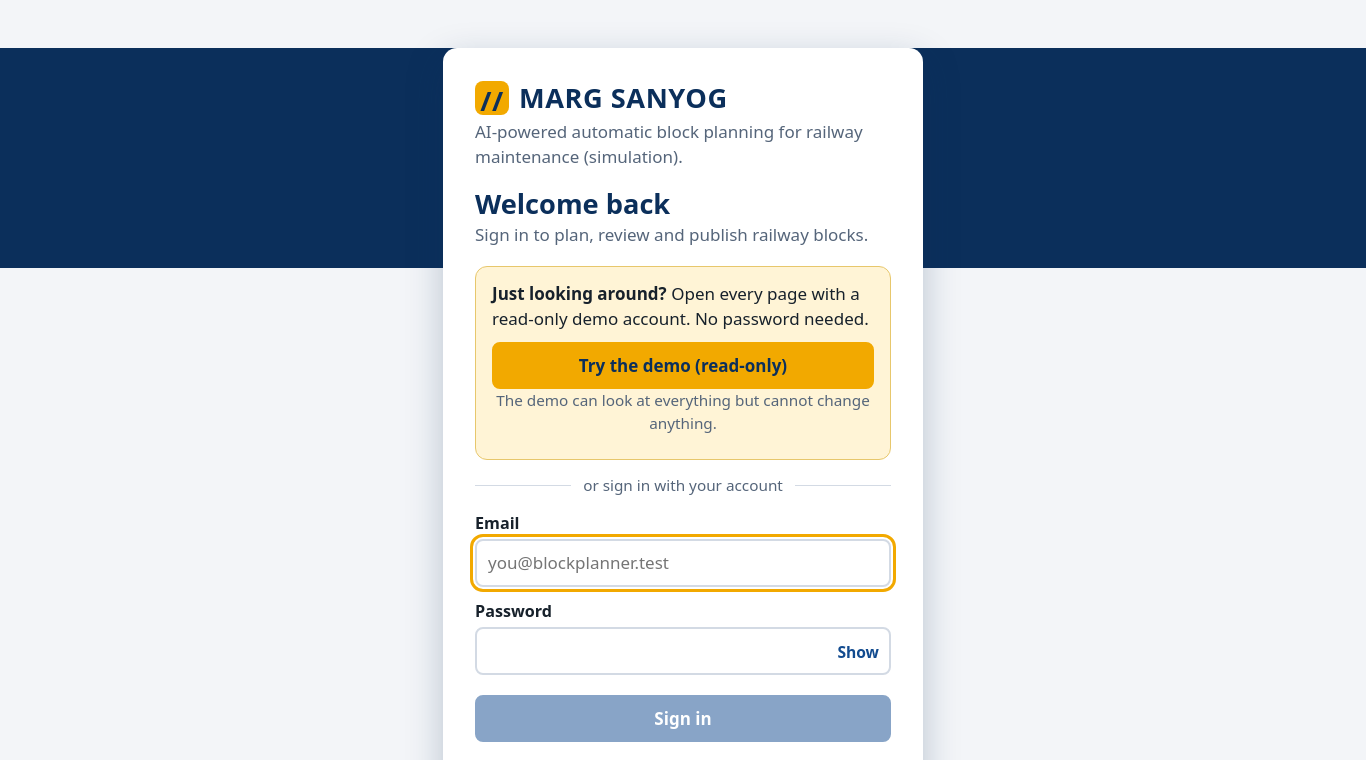
Test: the one-click demo › signs in as the read-only demo account without a password
Click the button "Try the demo (read-only)".
click(683, 366)  # box [492,342,874,389]
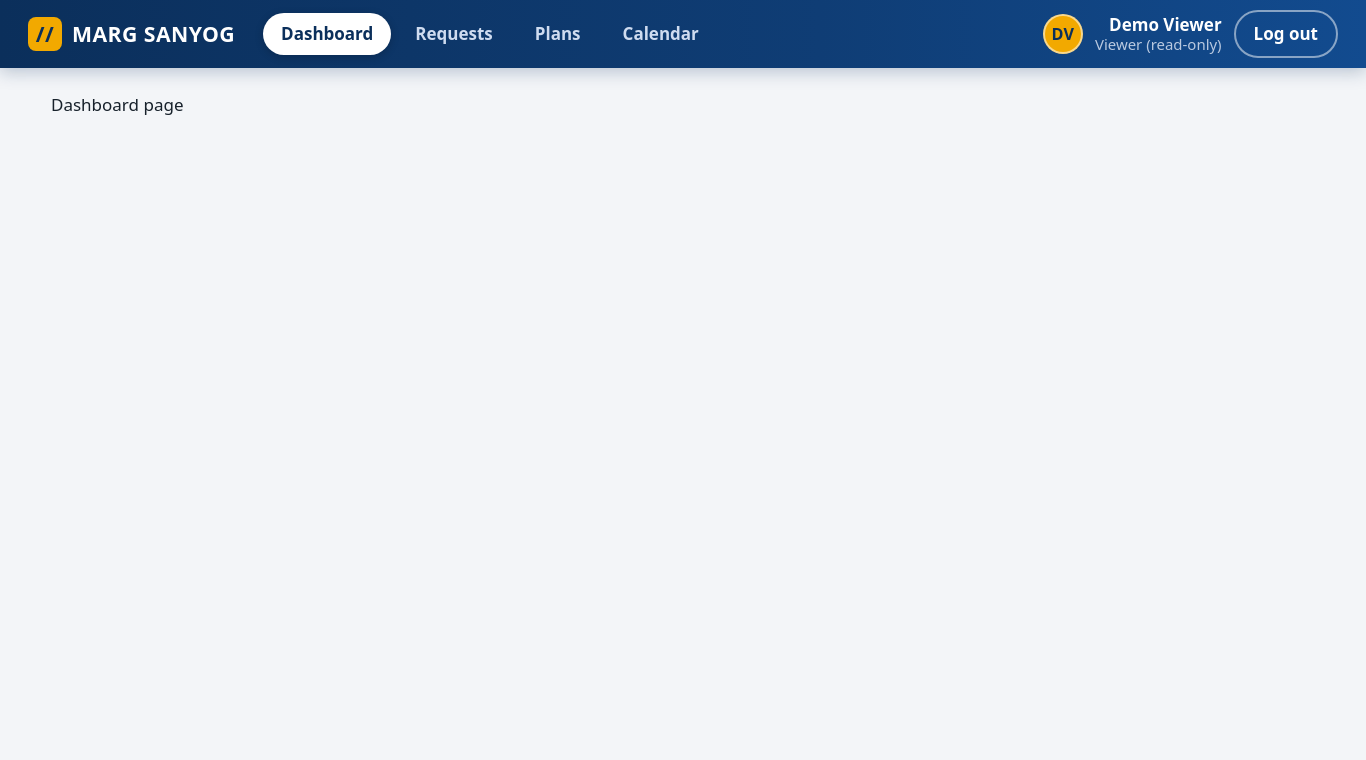
Check: the text "Dashboard page" is shown, box [51,92,184,116]
Check: the text "Demo Viewer" is shown, box [1095,14,1222,35]
